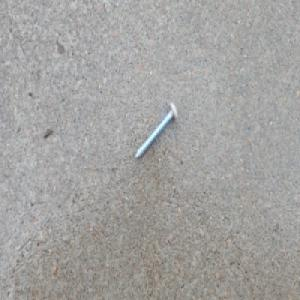Nail: (134, 100, 179, 161)
